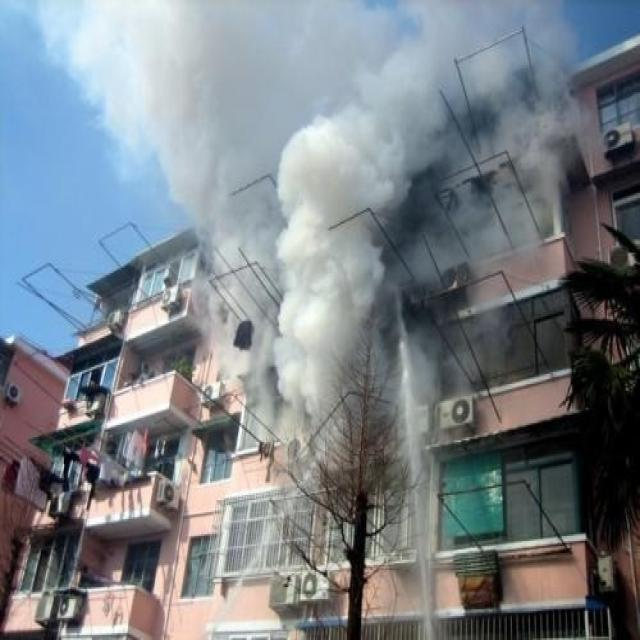Smoke: (39, 1, 592, 472)
